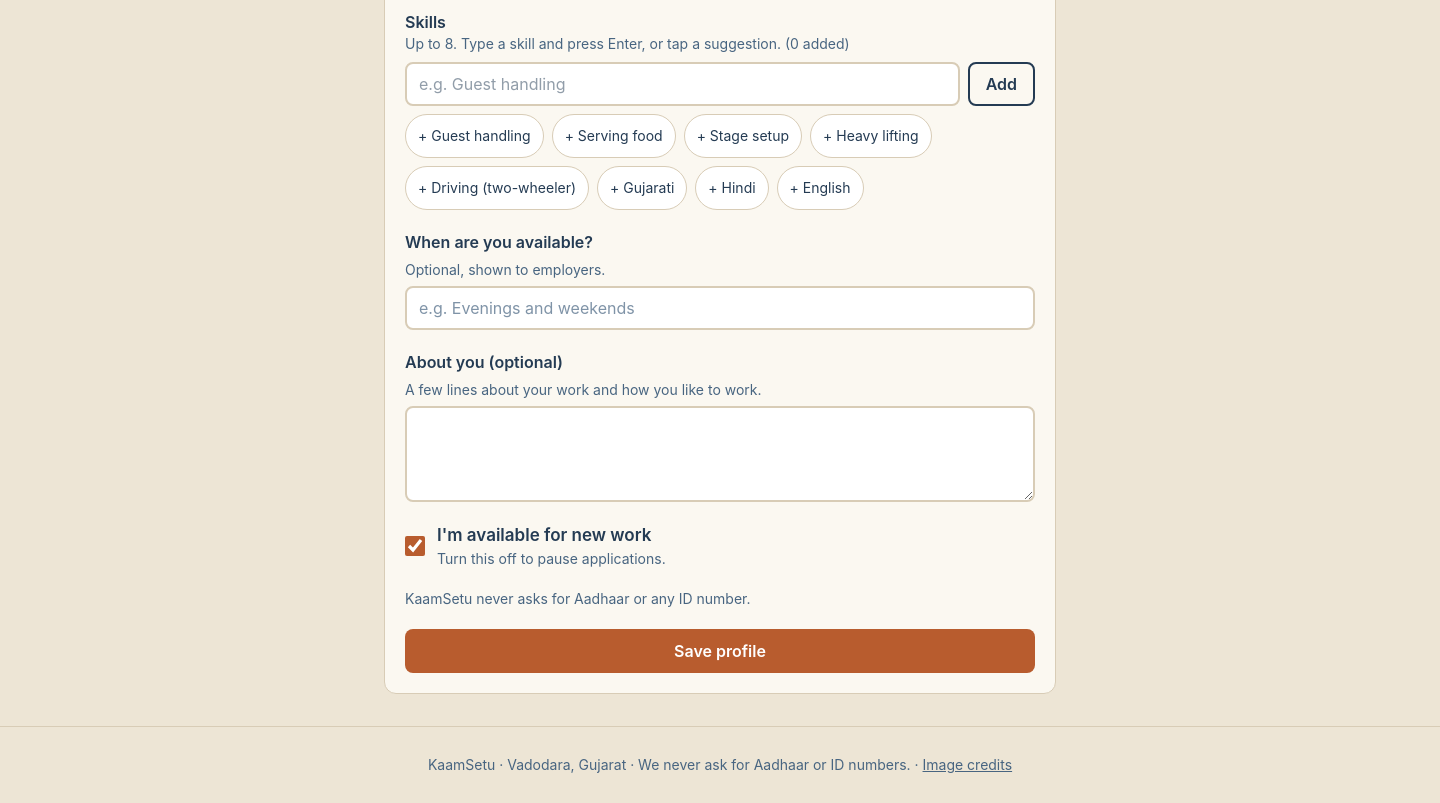
Test case: choosing a language › leaves the profile call out entirely when nothing about the account changed
The image size is (1440, 803).
(page scrolled)
Click the button "Save profile": (720, 651) [405, 629, 1035, 673]
(page scrolled)
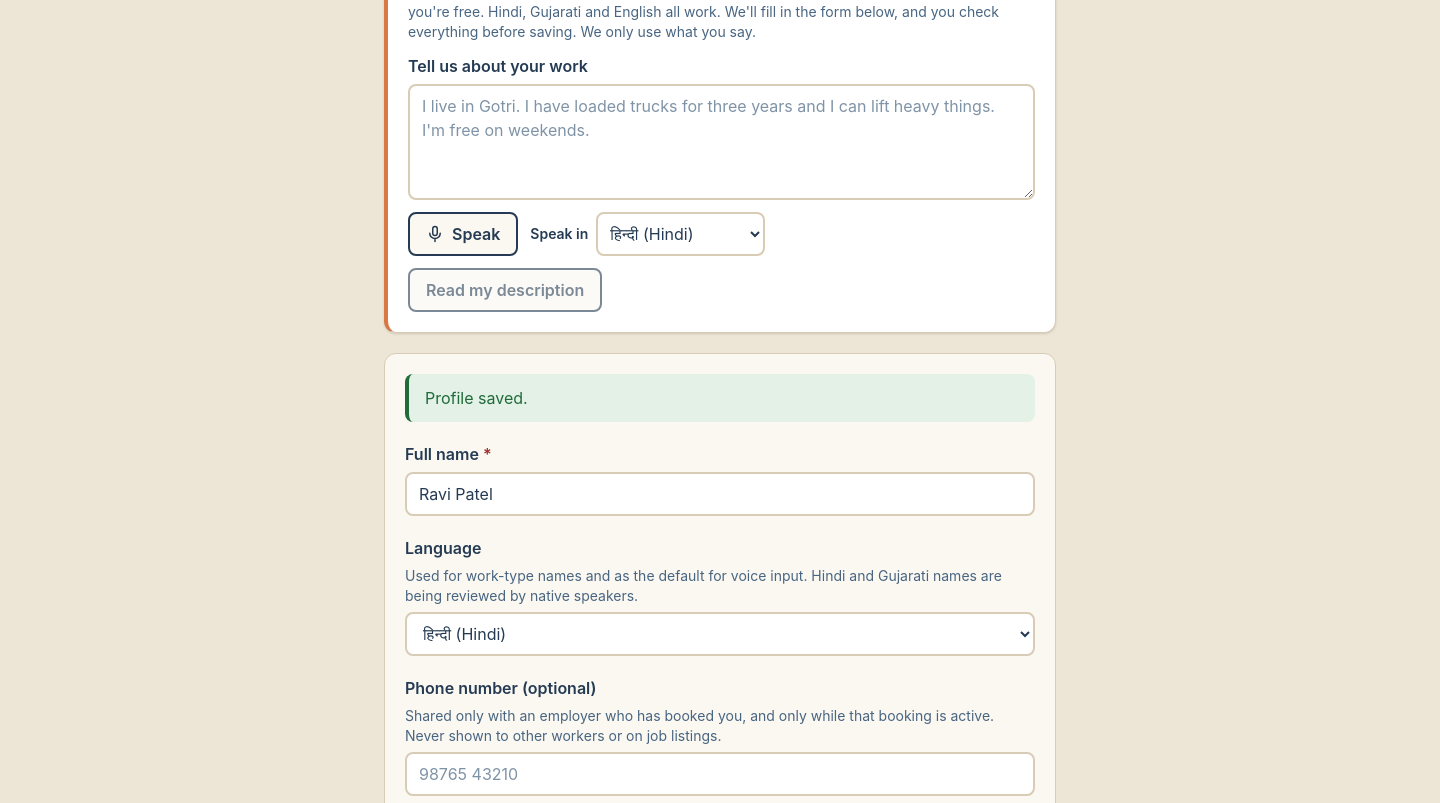
Now the text "Profile saved." is shown, box [425, 388, 528, 408]
